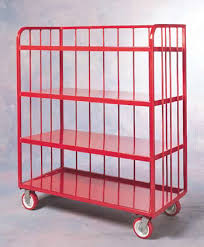Carts: (15, 22, 188, 238)
